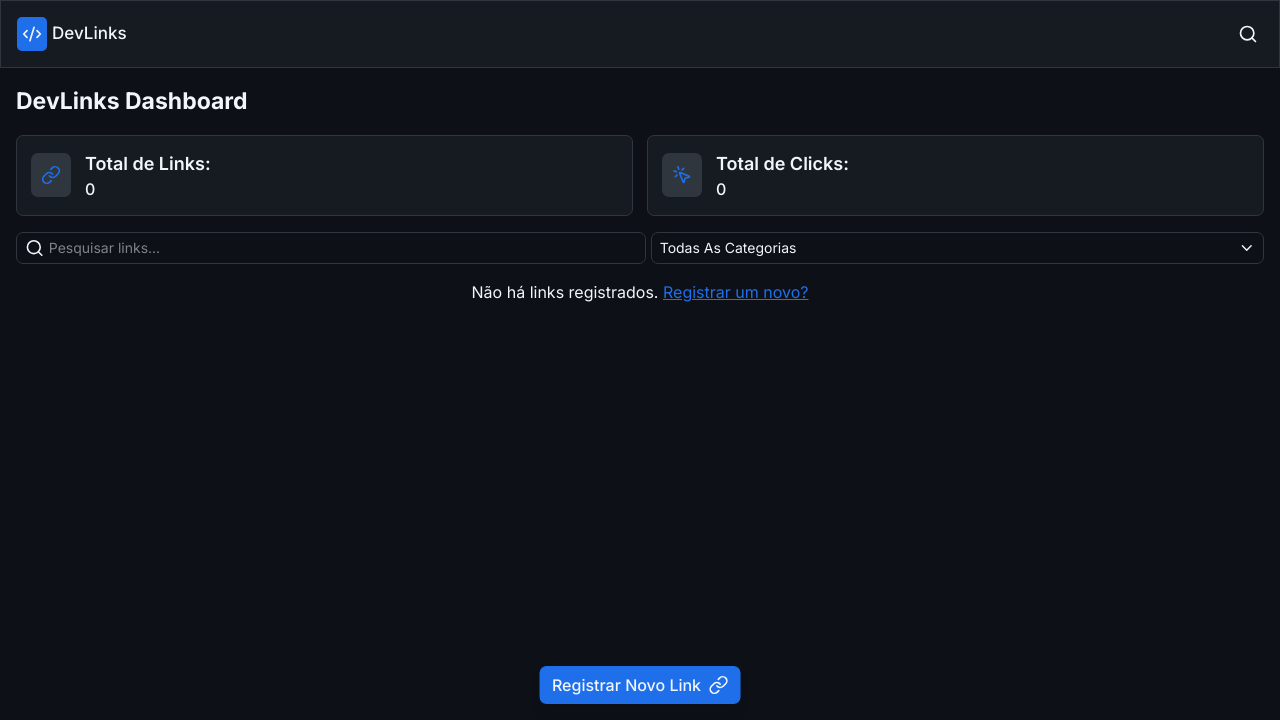
Scenario: App integration › registers a link and refreshes the displayed list
The width and height of the screenshot is (1280, 720).
Click the button "Registrar um novo?" at x=736, y=292, box [663,280,808,304]
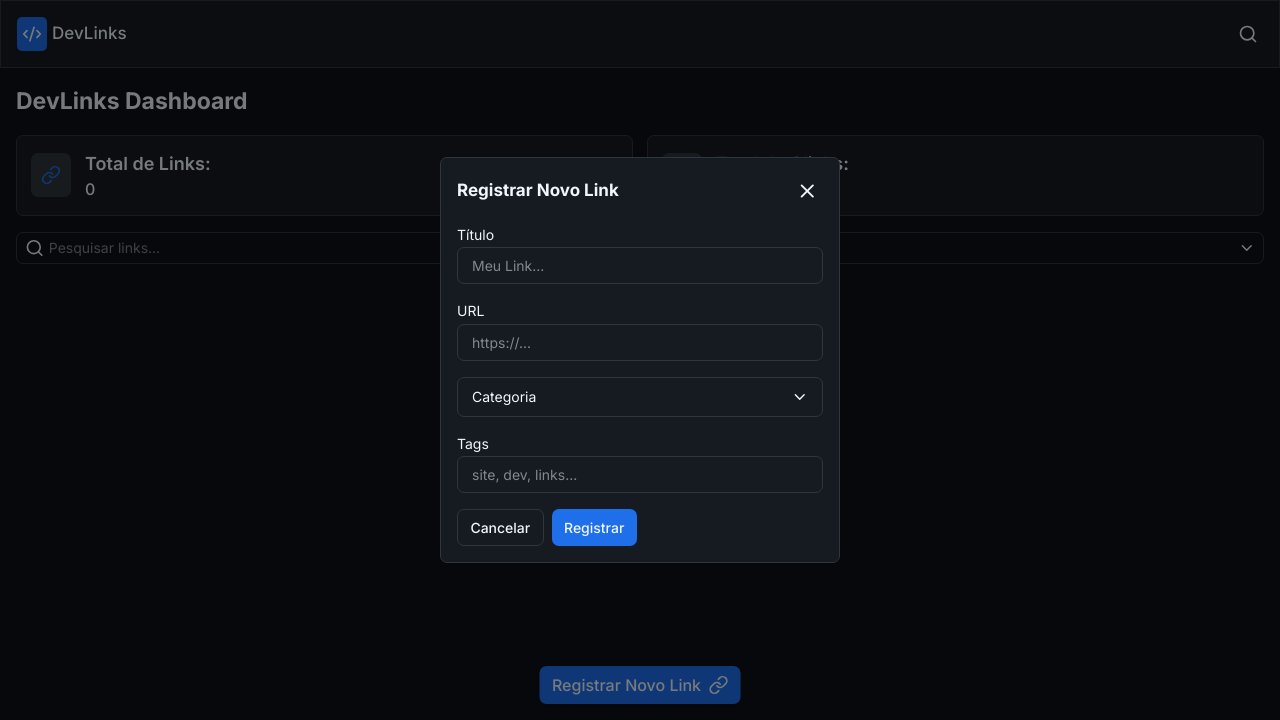
Check: the form named "formulário" is shown, box [440,157,840,563]
Type "Meu Novo Link" into the field labelled "Título" at x=640, y=266, box [457,248,823,284]
Type "https://example.com/resource" into the field labelled "URL" at x=640, y=342, box [457,324,823,361]
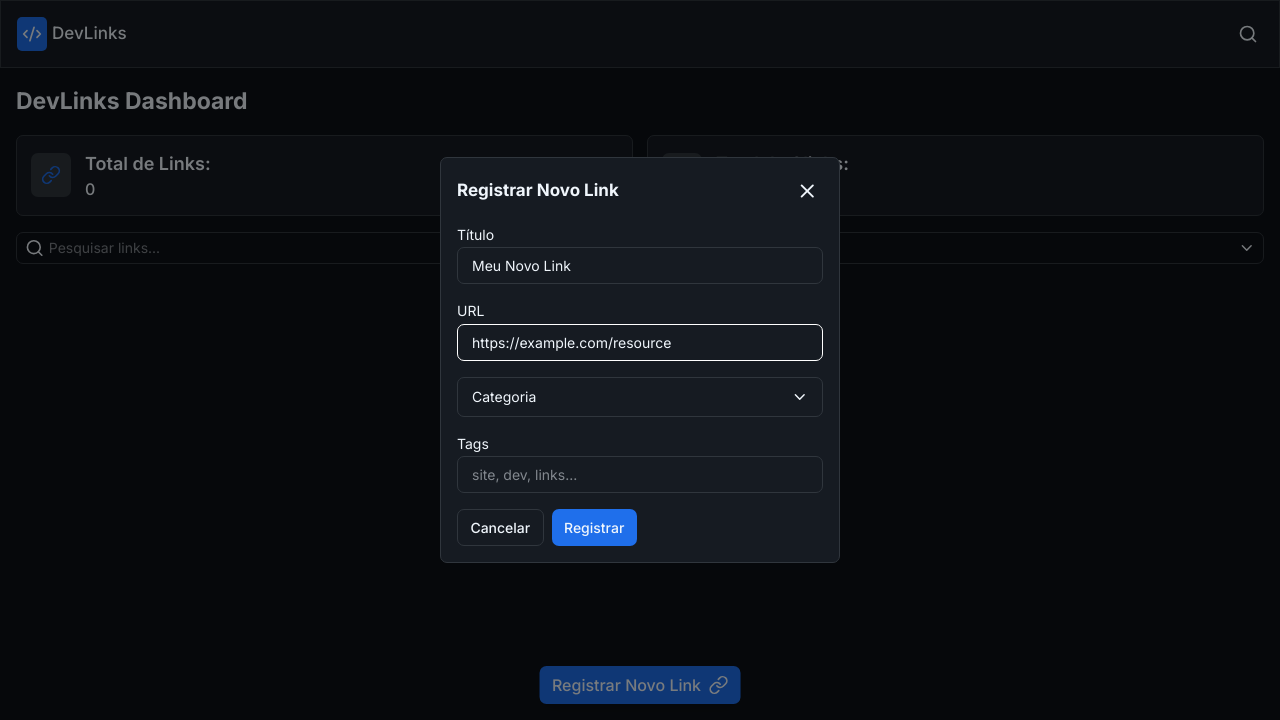
Click the button "Categoria" at x=504, y=397, box [457,377,823,417]
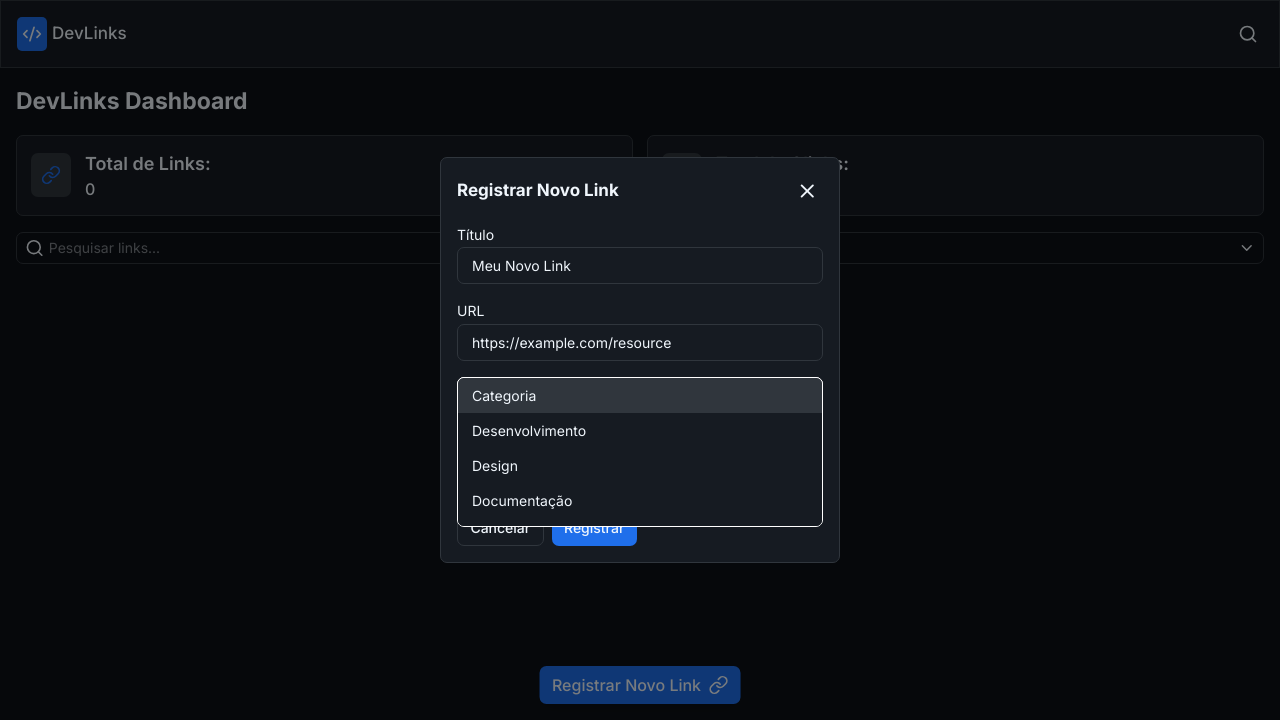
Click the button "documentação" at x=522, y=500, box [458,483,822,518]
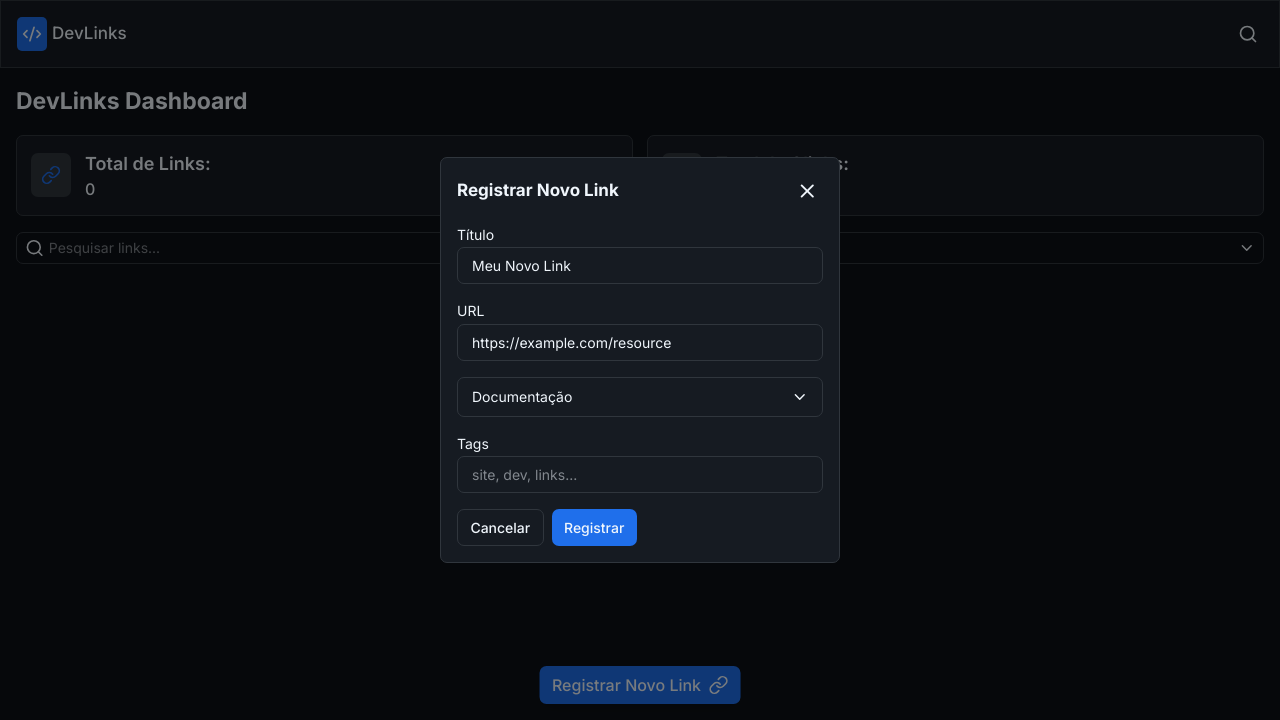
Type "React, Typescript" into the field labelled "Tags" at x=640, y=475, box [457,456,823,494]
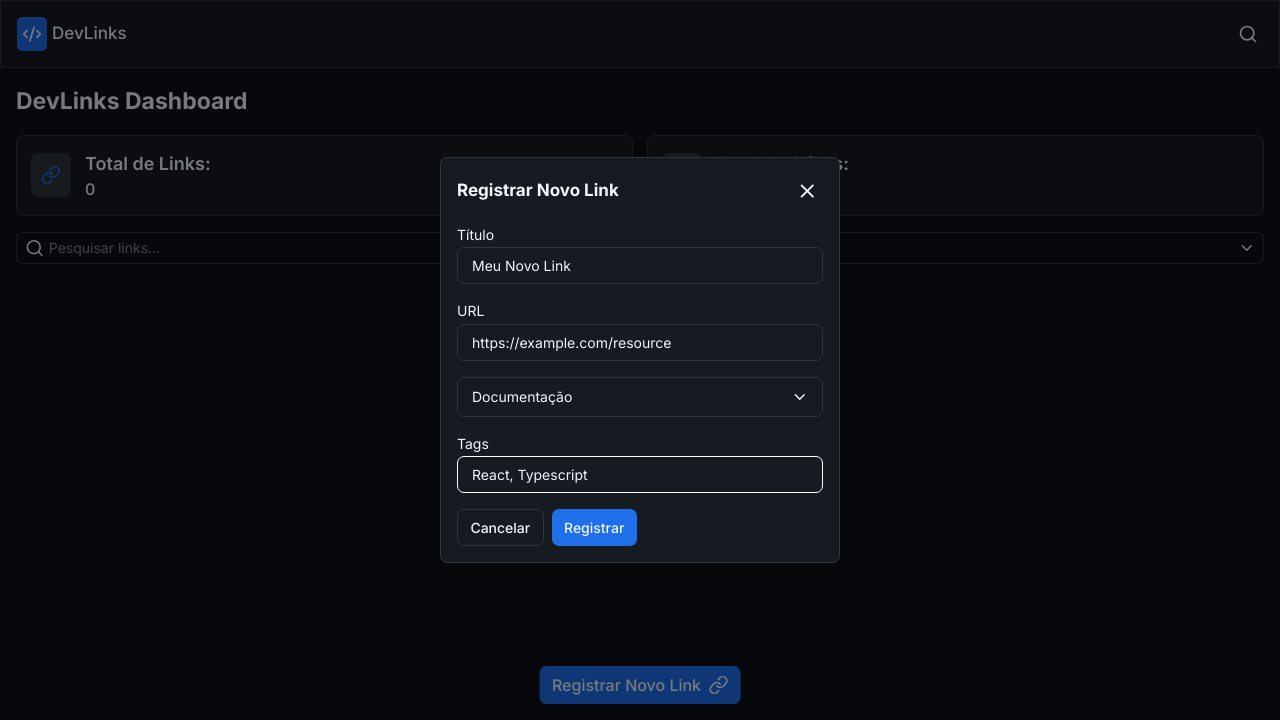
Click the button "Registrar" at x=594, y=528, box [552,510,637,546]
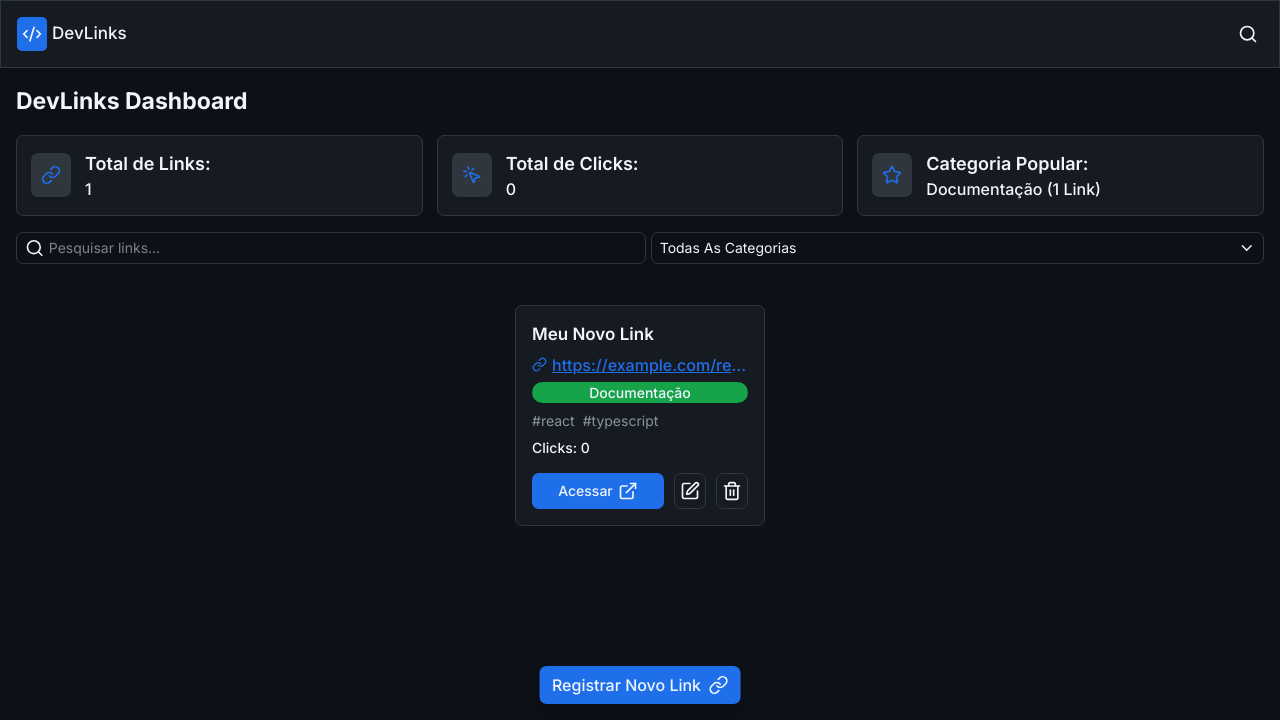
Check: the form "formulário" is gone
Check: the text "Meu Novo Link" is shown, box [532,324,654,344]
